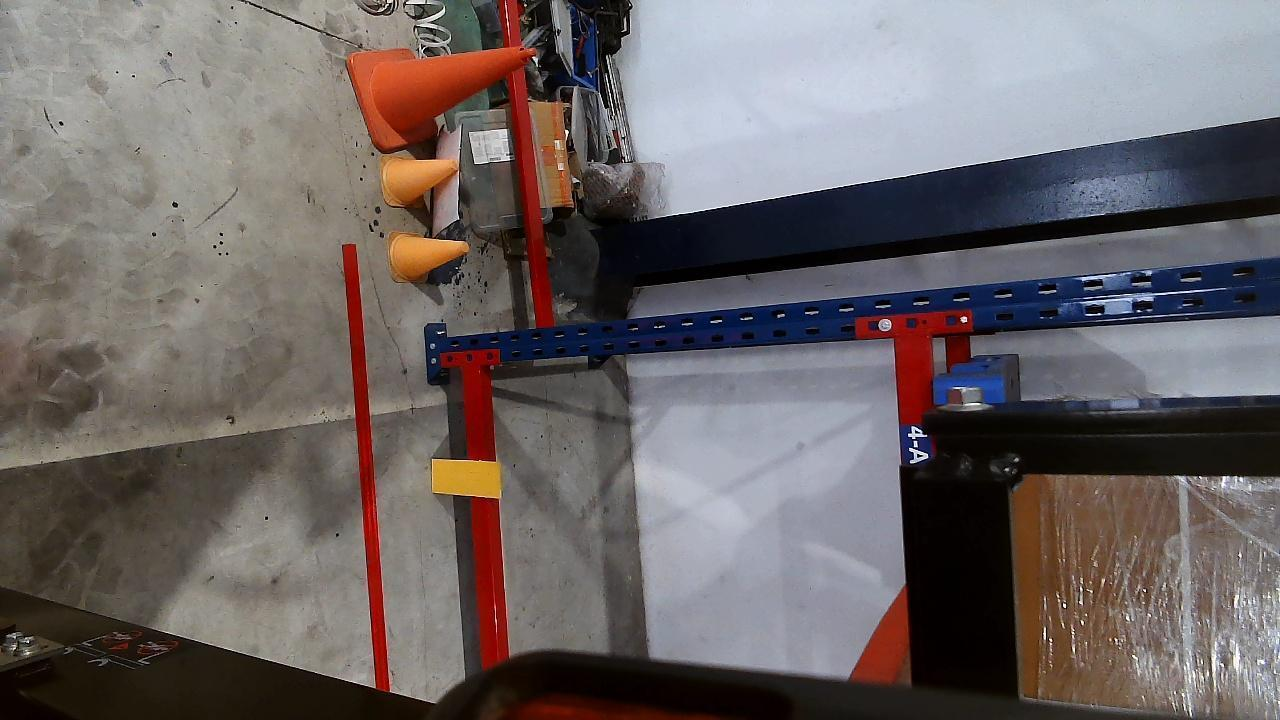red_line: (342, 246, 388, 686)
